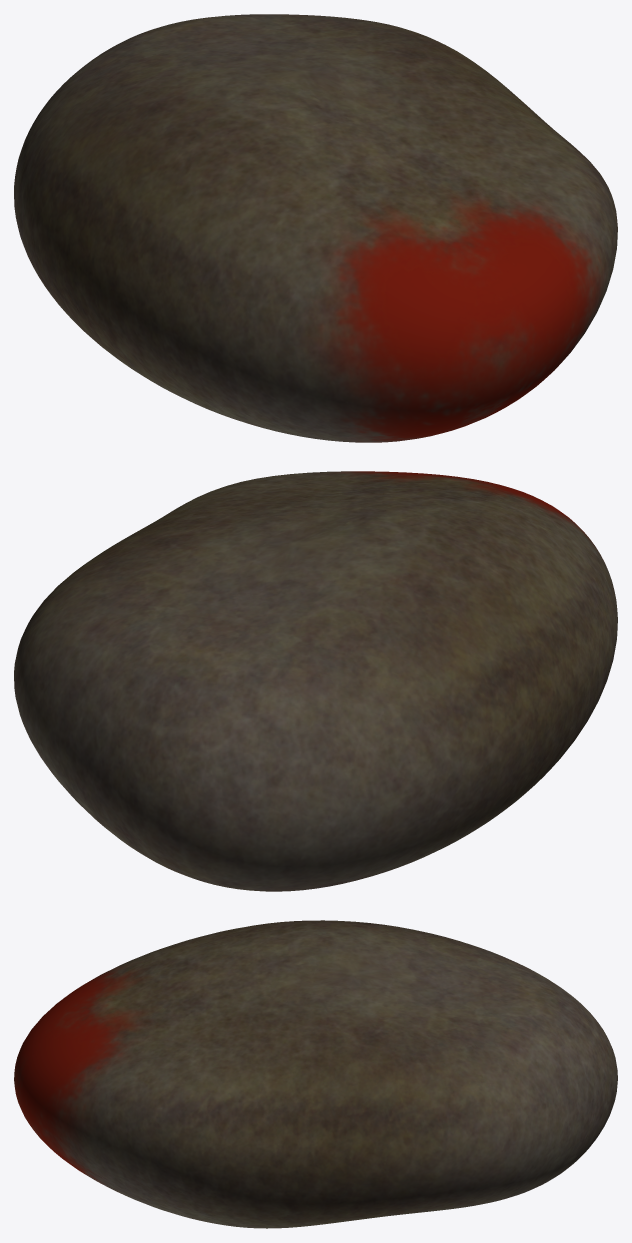
File: Stone.fbx
3 renders of one model, top to bottom at view 1: azimuth 30°, elevation 25°; view 2: azimuth 150°, elevation 25°; view 3: azimuth 270°, elevation 25°, orthographic. The views are drawn at different scales.
Parts seen in each view (by area): view 1: Kugel; view 2: Kugel; view 3: Kugel.
Boxes of the visible parts, bbox=[...] form: Kugel: bbox=[14, 14, 617, 442]; Kugel: bbox=[14, 471, 617, 891]; Kugel: bbox=[14, 920, 617, 1228].
Bounding box in the file's own units: 184 × 111 × 250.
1 material, 1 textured.
